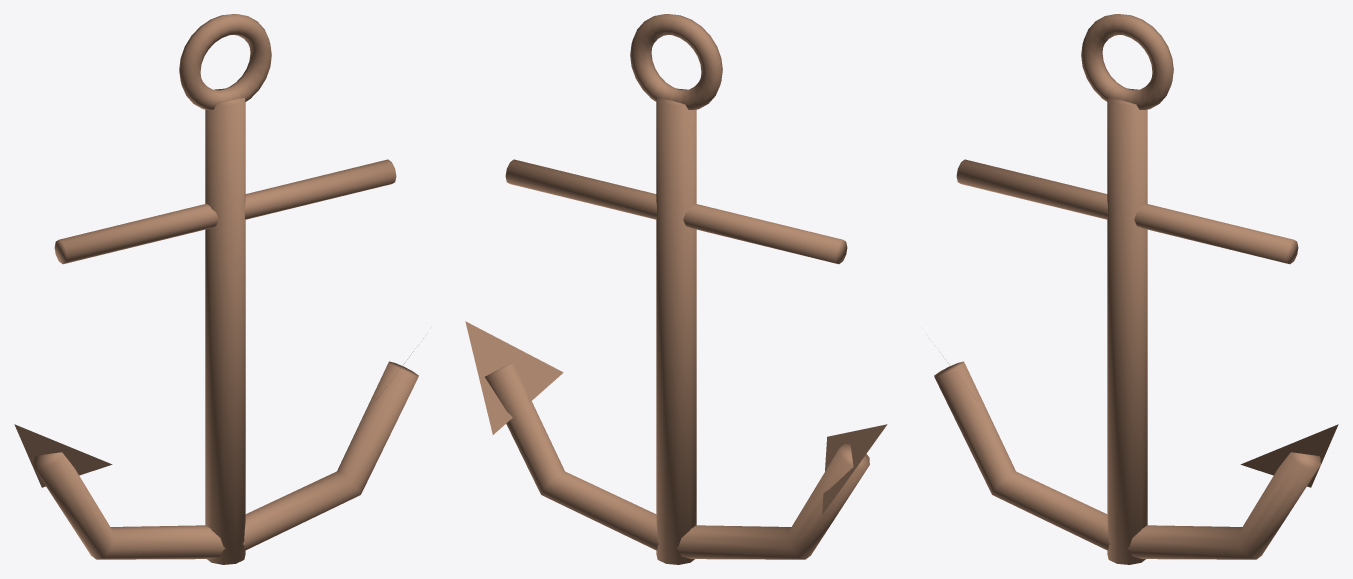
File: underwater-reef-worlds-admiralty-anchor-3327696a__7062.glb
3 renders of one model, left to right at view 1: azimuth 30°, elevation 25°; view 2: azimuth 150°, elevation 25°; view 3: azimuth 330°, elevation 25°, orthographic.
Visible parts, largest first — view 1: admiralty-anchor; view 2: admiralty-anchor; view 3: admiralty-anchor.
Part boxes in pixels (x1=…): admiralty-anchor: x1=14, y1=14, x2=423, y2=564; admiralty-anchor: x1=465, y1=14, x2=887, y2=564; admiralty-anchor: x1=929, y1=14, x2=1338, y2=564.
Bounding box in the file's own units: 1.54 × 1.89 × 0.24.
